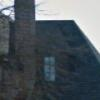chimneys: (15, 1, 36, 90)
